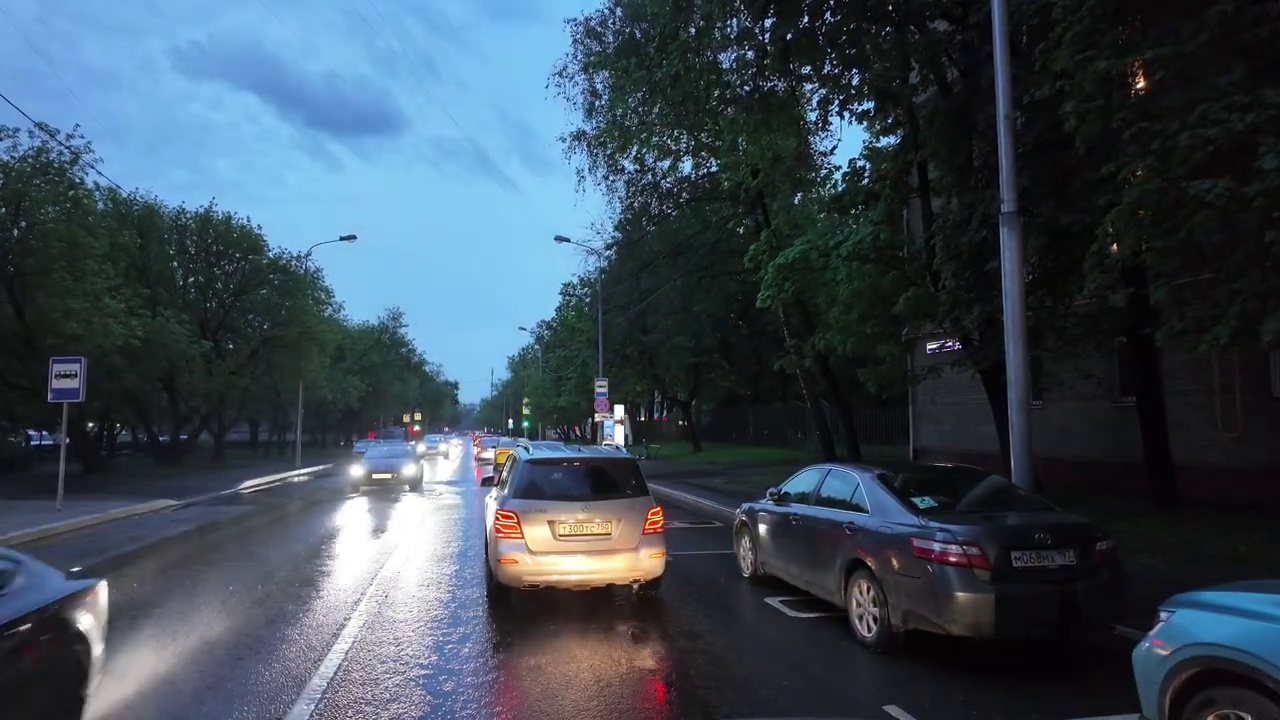apagada: (331, 227, 359, 250)
